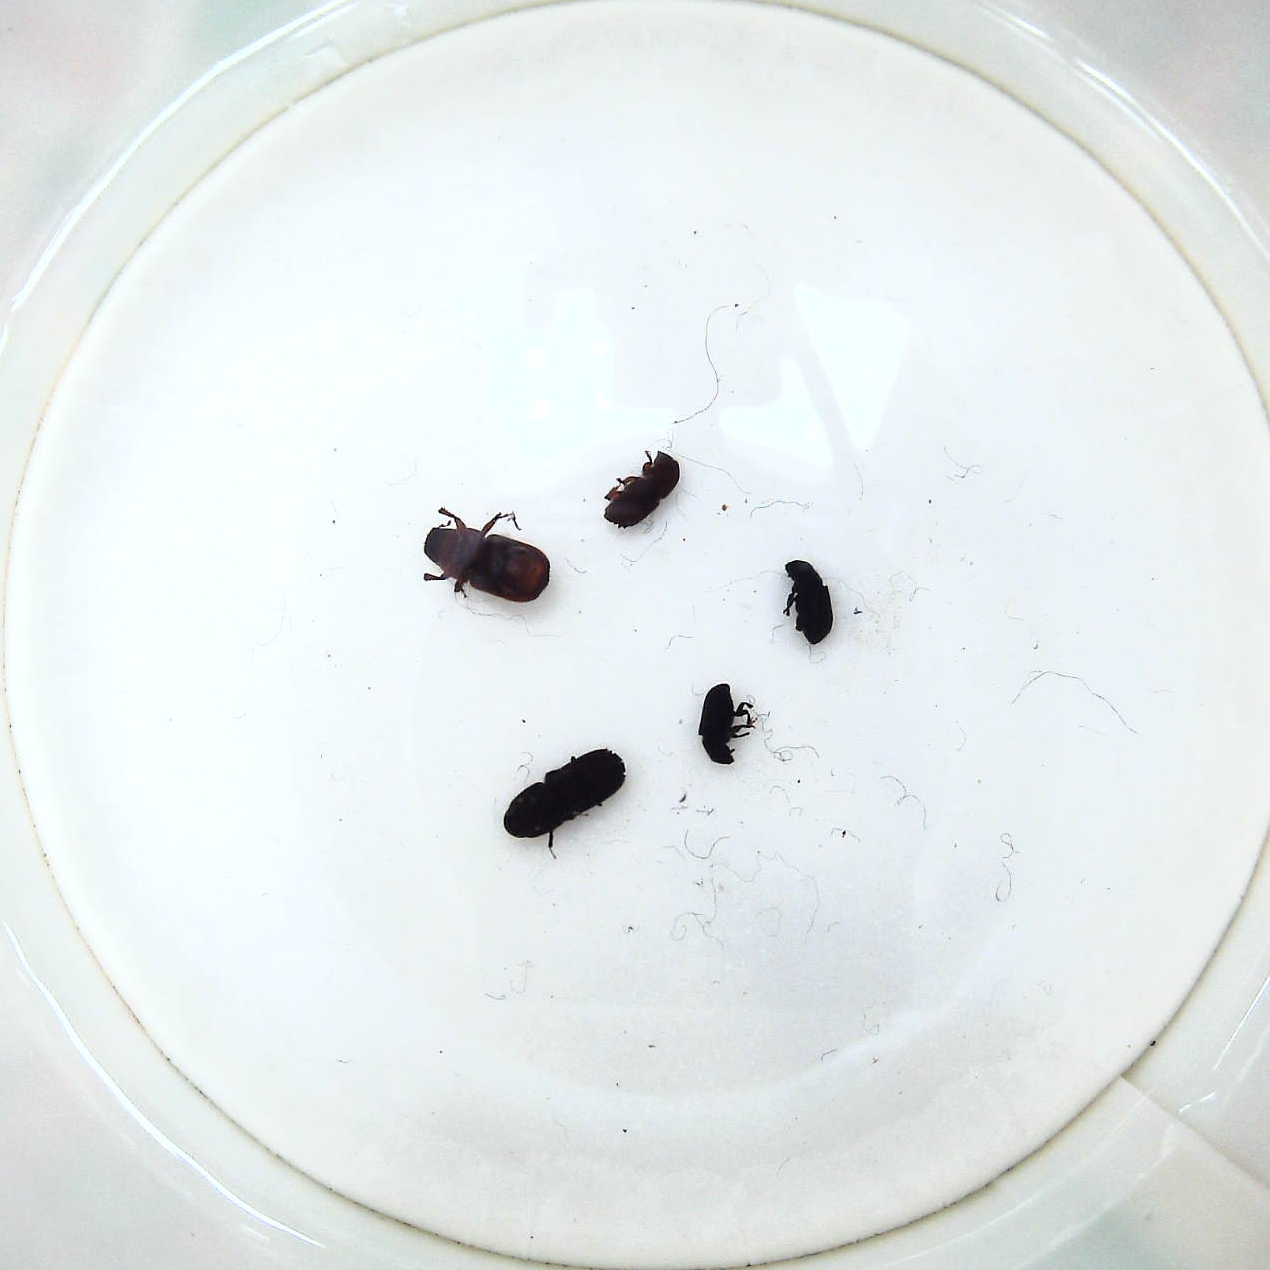Boerner: (500, 748, 632, 850)
Leconte: (422, 506, 552, 606)
armandi: (778, 555, 839, 650)
coleoptera: (697, 680, 761, 770)
linnaeus: (602, 450, 685, 533)
